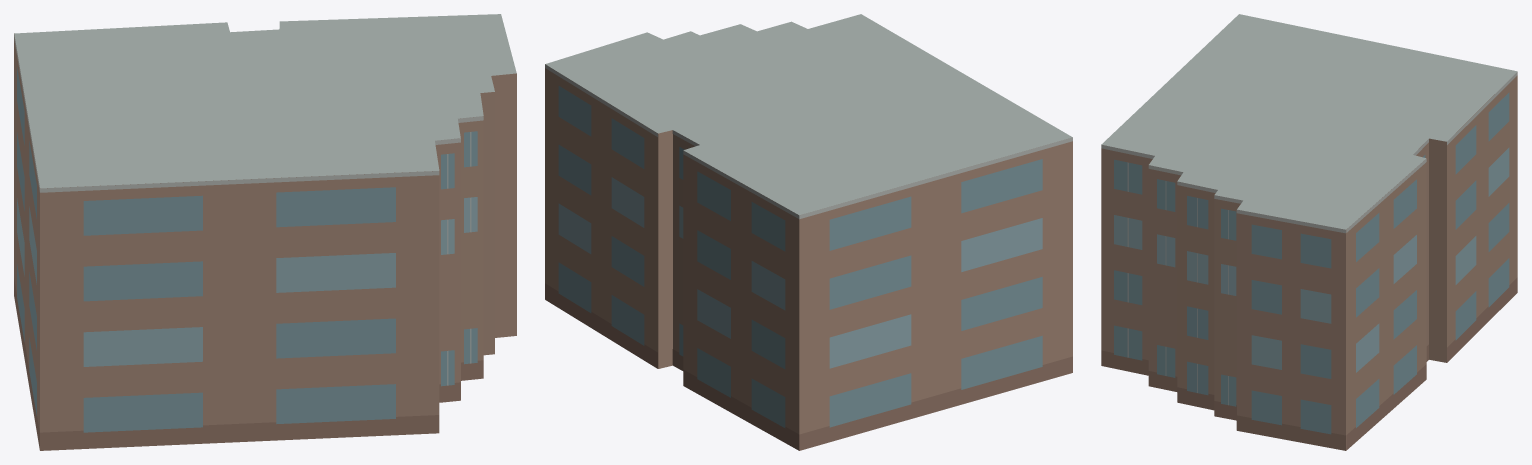
File: survey-upis-32748935.glb
3 views of the same model, side by side, from view 1: azimuth 30°, elevation 25°; view 2: azimuth 150°, elevation 25°; view 3: azimuth 270°, elevation 25° (orthographic). The views are drawn at different scales.
Parts seen in each view (by area): view 1: survey-upis-32748935.tmp; view 2: survey-upis-32748935.tmp; view 3: survey-upis-32748935.tmp.
Boxes of the visible parts, x1,y1,x2,y2 form: survey-upis-32748935.tmp: (14,14,516,450); survey-upis-32748935.tmp: (545,14,1072,450); survey-upis-32748935.tmp: (1101,14,1517,450).
Bounding box in the file's own units: 30.54 × 14.6 × 24.92.
